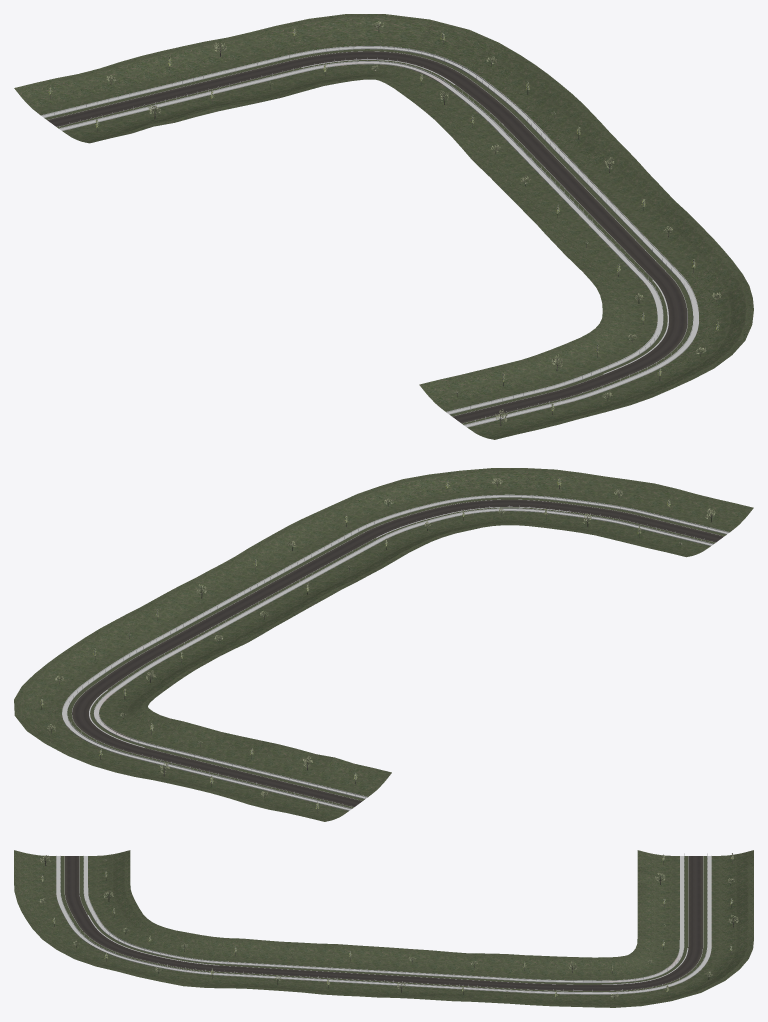
3 views of the same model, one above another, from view 1: azimuth 30°, elevation 25°; view 2: azimuth 150°, elevation 25°; view 3: azimuth 270°, elevation 25° (orthographic). The views are drawn at different scales.
Visible parts, largest first — view 1: Grass, Road, Track, Trees; view 2: Grass, Road, Track, Trees; view 3: Grass, Road, Track, Trees.
Boxes of the visible parts, <box> form: Grass: <box>14,14,753,439</box>; Road: <box>47,51,687,423</box>; Track: <box>41,45,698,427</box>; Trees: <box>48,21,721,425</box>; Grass: <box>14,468,753,821</box>; Road: <box>72,499,723,807</box>; Track: <box>62,494,729,810</box>; Trees: <box>40,477,715,813</box>; Grass: <box>14,850,753,1007</box>; Road: <box>65,856,702,990</box>; Track: <box>56,853,711,994</box>; Trees: <box>40,853,738,1000</box>.
Bounding box in the file's own units: 44493 × 1865 × 89000.
